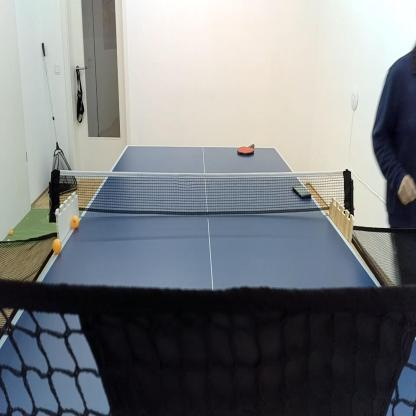Ball: (53, 238, 61, 254), (71, 215, 79, 229), (6, 238, 11, 246), (9, 229, 13, 234)
